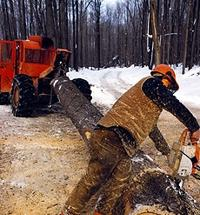person: (63, 64, 200, 215)
